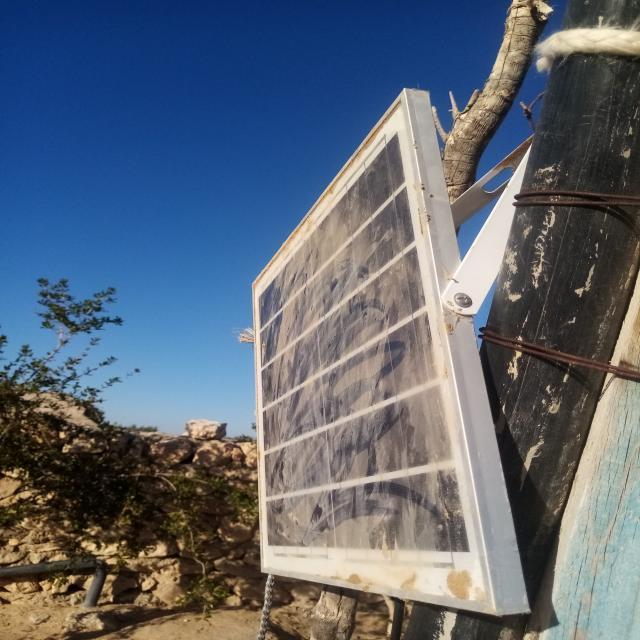Anomaly Solar Panel: (253, 115, 482, 571)
Surface Contaminant: (335, 196, 462, 552), (267, 391, 334, 545), (260, 272, 332, 375)
